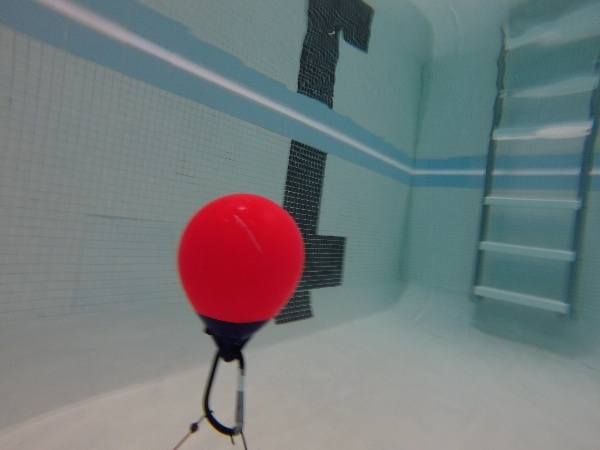buoy_red: (174, 194, 305, 362)
